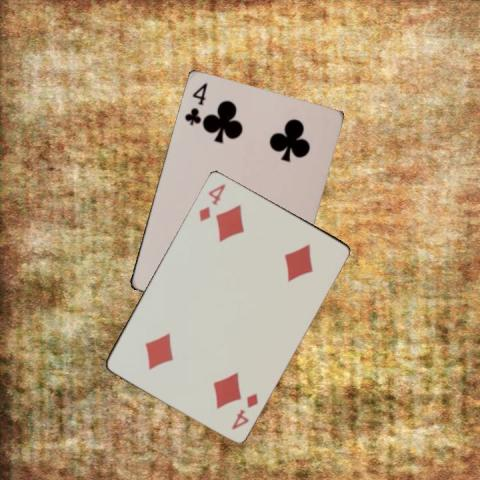4c: (181, 79, 209, 127)
4d: (196, 180, 228, 223), (228, 390, 259, 431)
